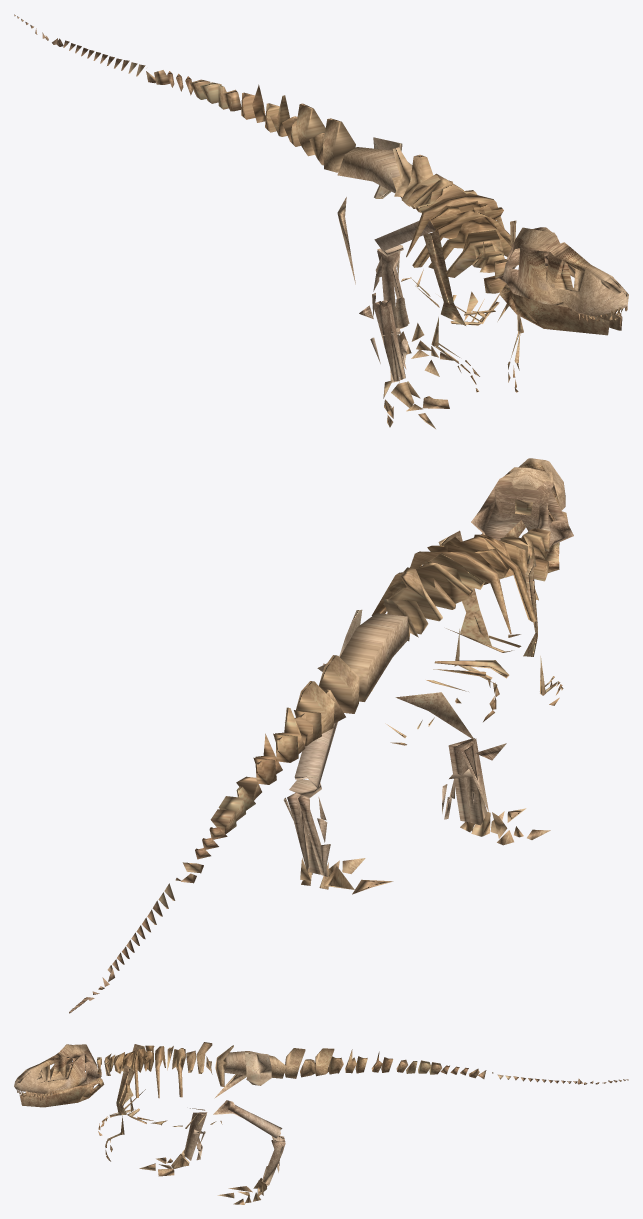
File: dino1.fbx
The picture shows the model from 3 angles, top to bottom: view 1: azimuth 30°, elevation 25°; view 2: azimuth 150°, elevation 25°; view 3: azimuth 270°, elevation 25°; orthographic projection. The views are drawn at different scales.
Visible parts, largest first — view 1: D1205A025:Trex:TailGrp; view 2: D1205A025:Trex:TailGrp; view 3: D1205A025:Trex:TailGrp.
Boxes of the visible parts, bbox=[...] form: D1205A025:Trex:TailGrp: bbox=[14, 14, 628, 428]; D1205A025:Trex:TailGrp: bbox=[69, 458, 573, 1013]; D1205A025:Trex:TailGrp: bbox=[14, 1042, 628, 1204].
Size of the model in its own units: 3.33 by 5.78 by 21.73.
